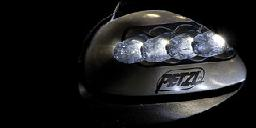LED: (113, 34, 232, 69), (107, 36, 138, 67)
